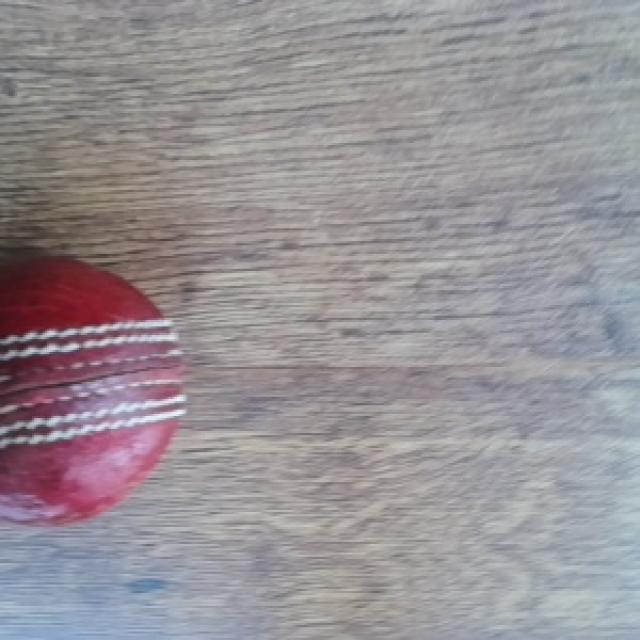ball: (5, 258, 187, 532)
